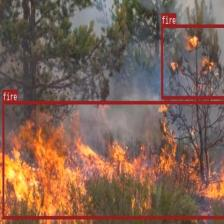fire: (2, 100, 224, 218), (161, 24, 224, 99)
